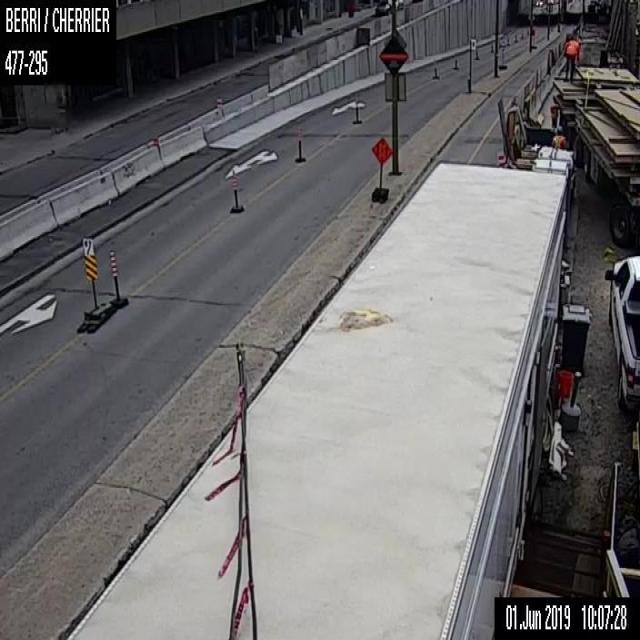construction: (370, 134, 392, 202), (109, 250, 120, 302), (232, 168, 238, 207), (297, 127, 301, 157), (354, 92, 358, 120), (434, 58, 436, 75), (520, 30, 524, 38), (454, 58, 457, 67), (514, 32, 517, 41), (475, 46, 477, 58), (490, 40, 492, 50), (506, 34, 508, 44)
pedestrian: (562, 36, 578, 83)
vehicle: (604, 253, 639, 412), (373, 0, 397, 13), (534, 0, 542, 5)
